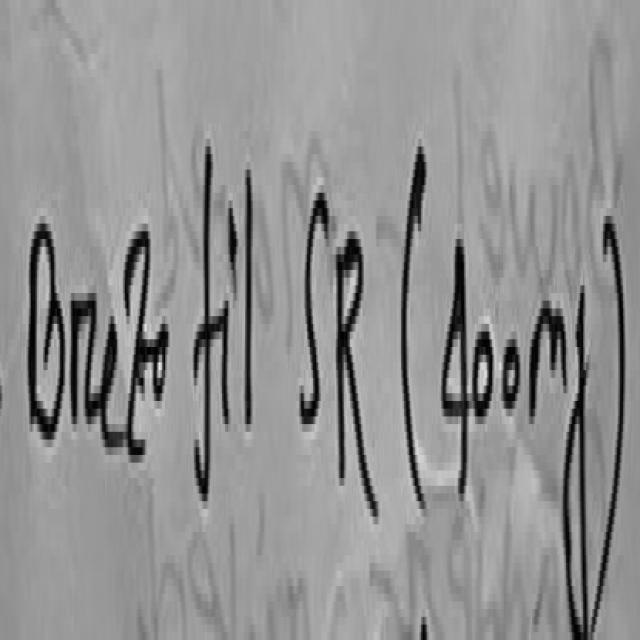0: (475, 332, 495, 413), (504, 347, 521, 405)
4: (443, 239, 470, 490)
B: (29, 224, 65, 436)
R: (339, 231, 379, 513)
S: (301, 193, 328, 420)
e: (100, 316, 123, 443)
f: (194, 146, 224, 497)
g: (564, 270, 589, 640)
i: (222, 303, 230, 413), (229, 208, 237, 289)
l: (245, 170, 253, 420)
m: (531, 308, 568, 413)
o: (153, 315, 170, 401)
r: (71, 293, 101, 435)
z: (125, 231, 156, 451)
